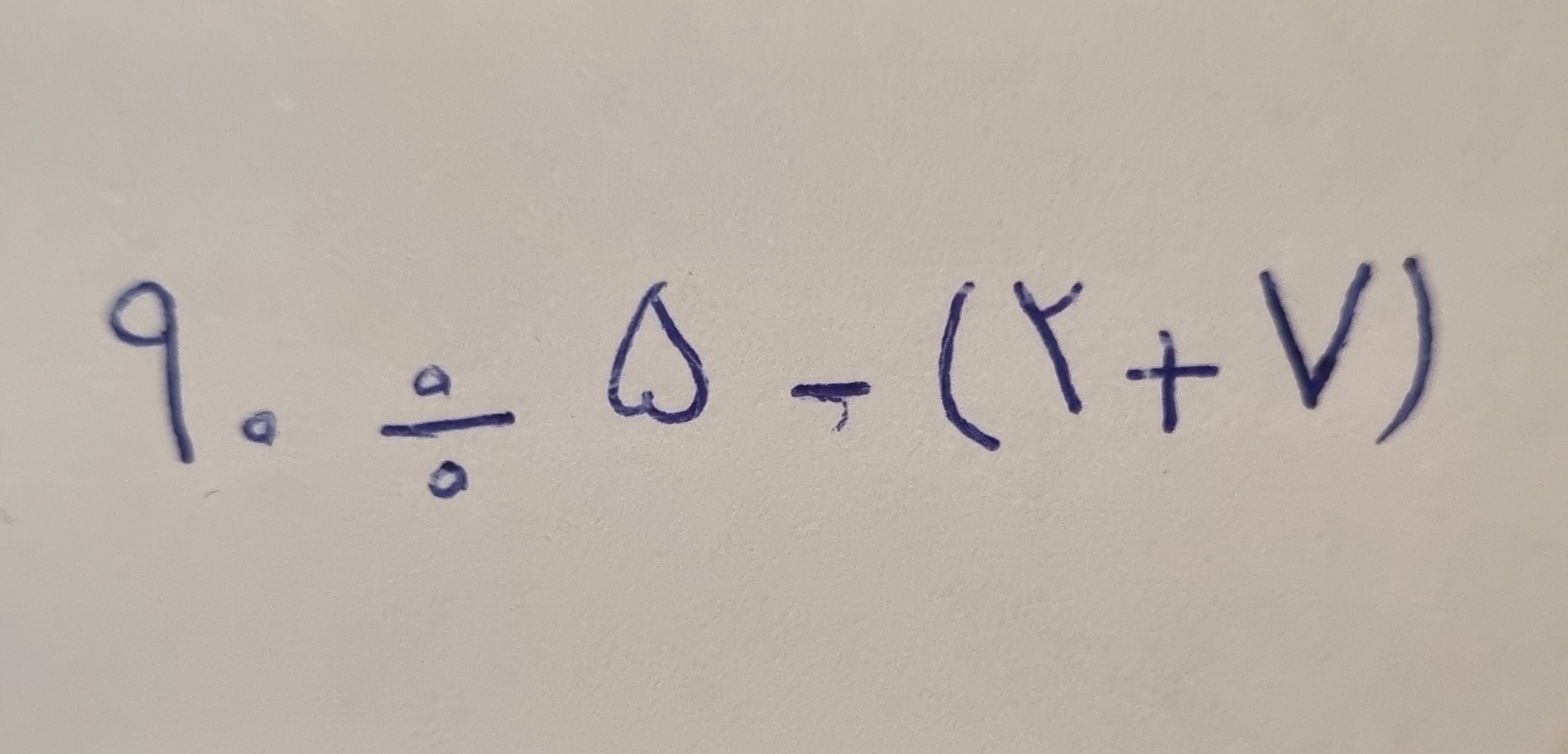character: (379, 362, 516, 501), (1253, 259, 1372, 412), (107, 280, 196, 465), (606, 280, 712, 427), (936, 278, 1000, 452), (1375, 258, 1434, 445), (1126, 330, 1220, 437), (1012, 281, 1086, 415), (789, 378, 871, 403), (240, 408, 275, 447)
